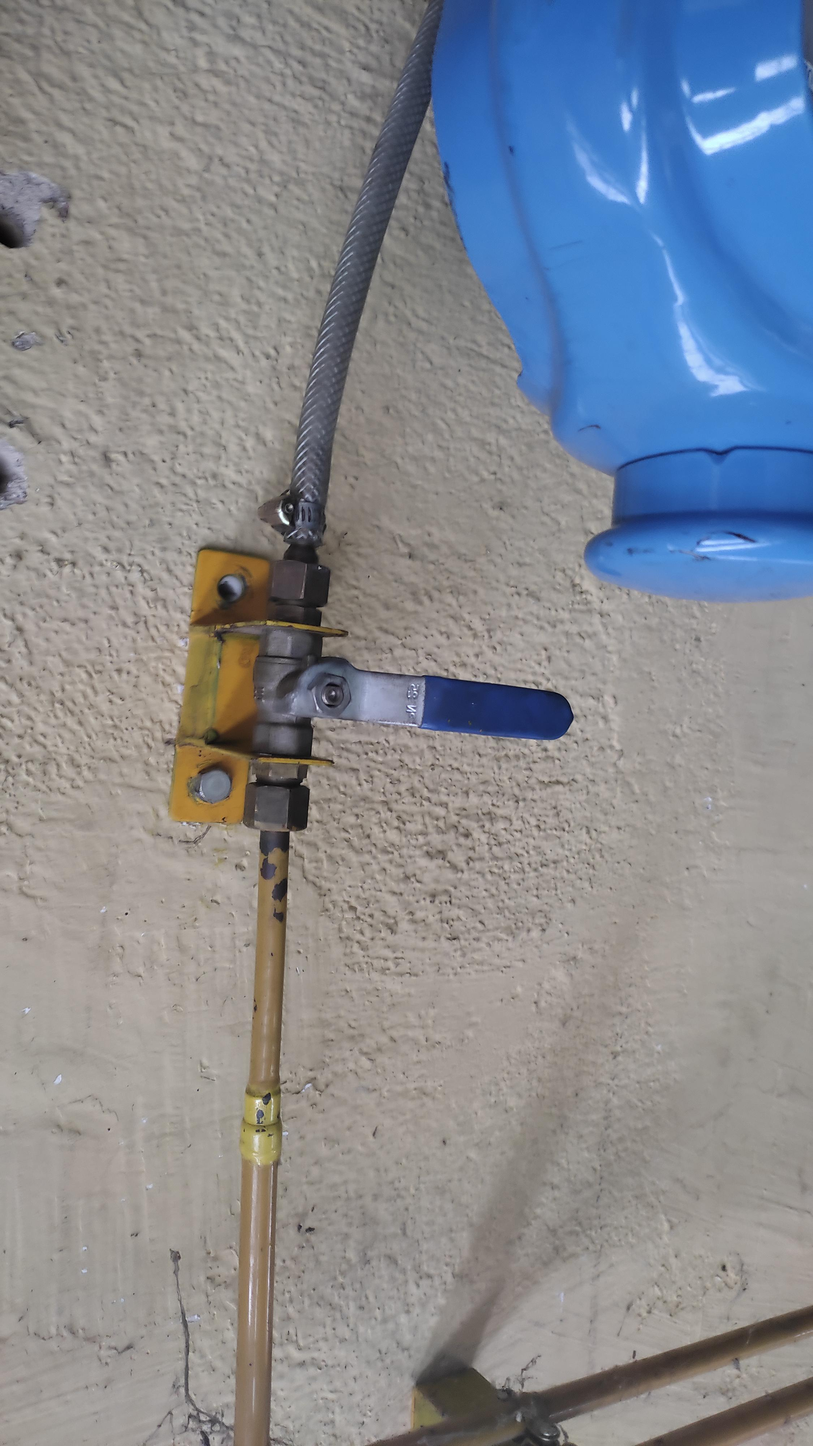closed valve: (189, 595, 586, 795)
